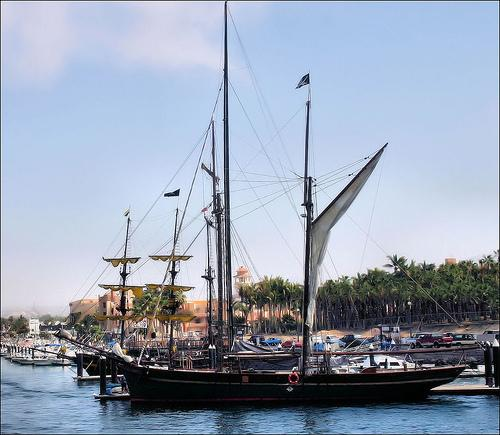Ship: (56, 4, 468, 410)
